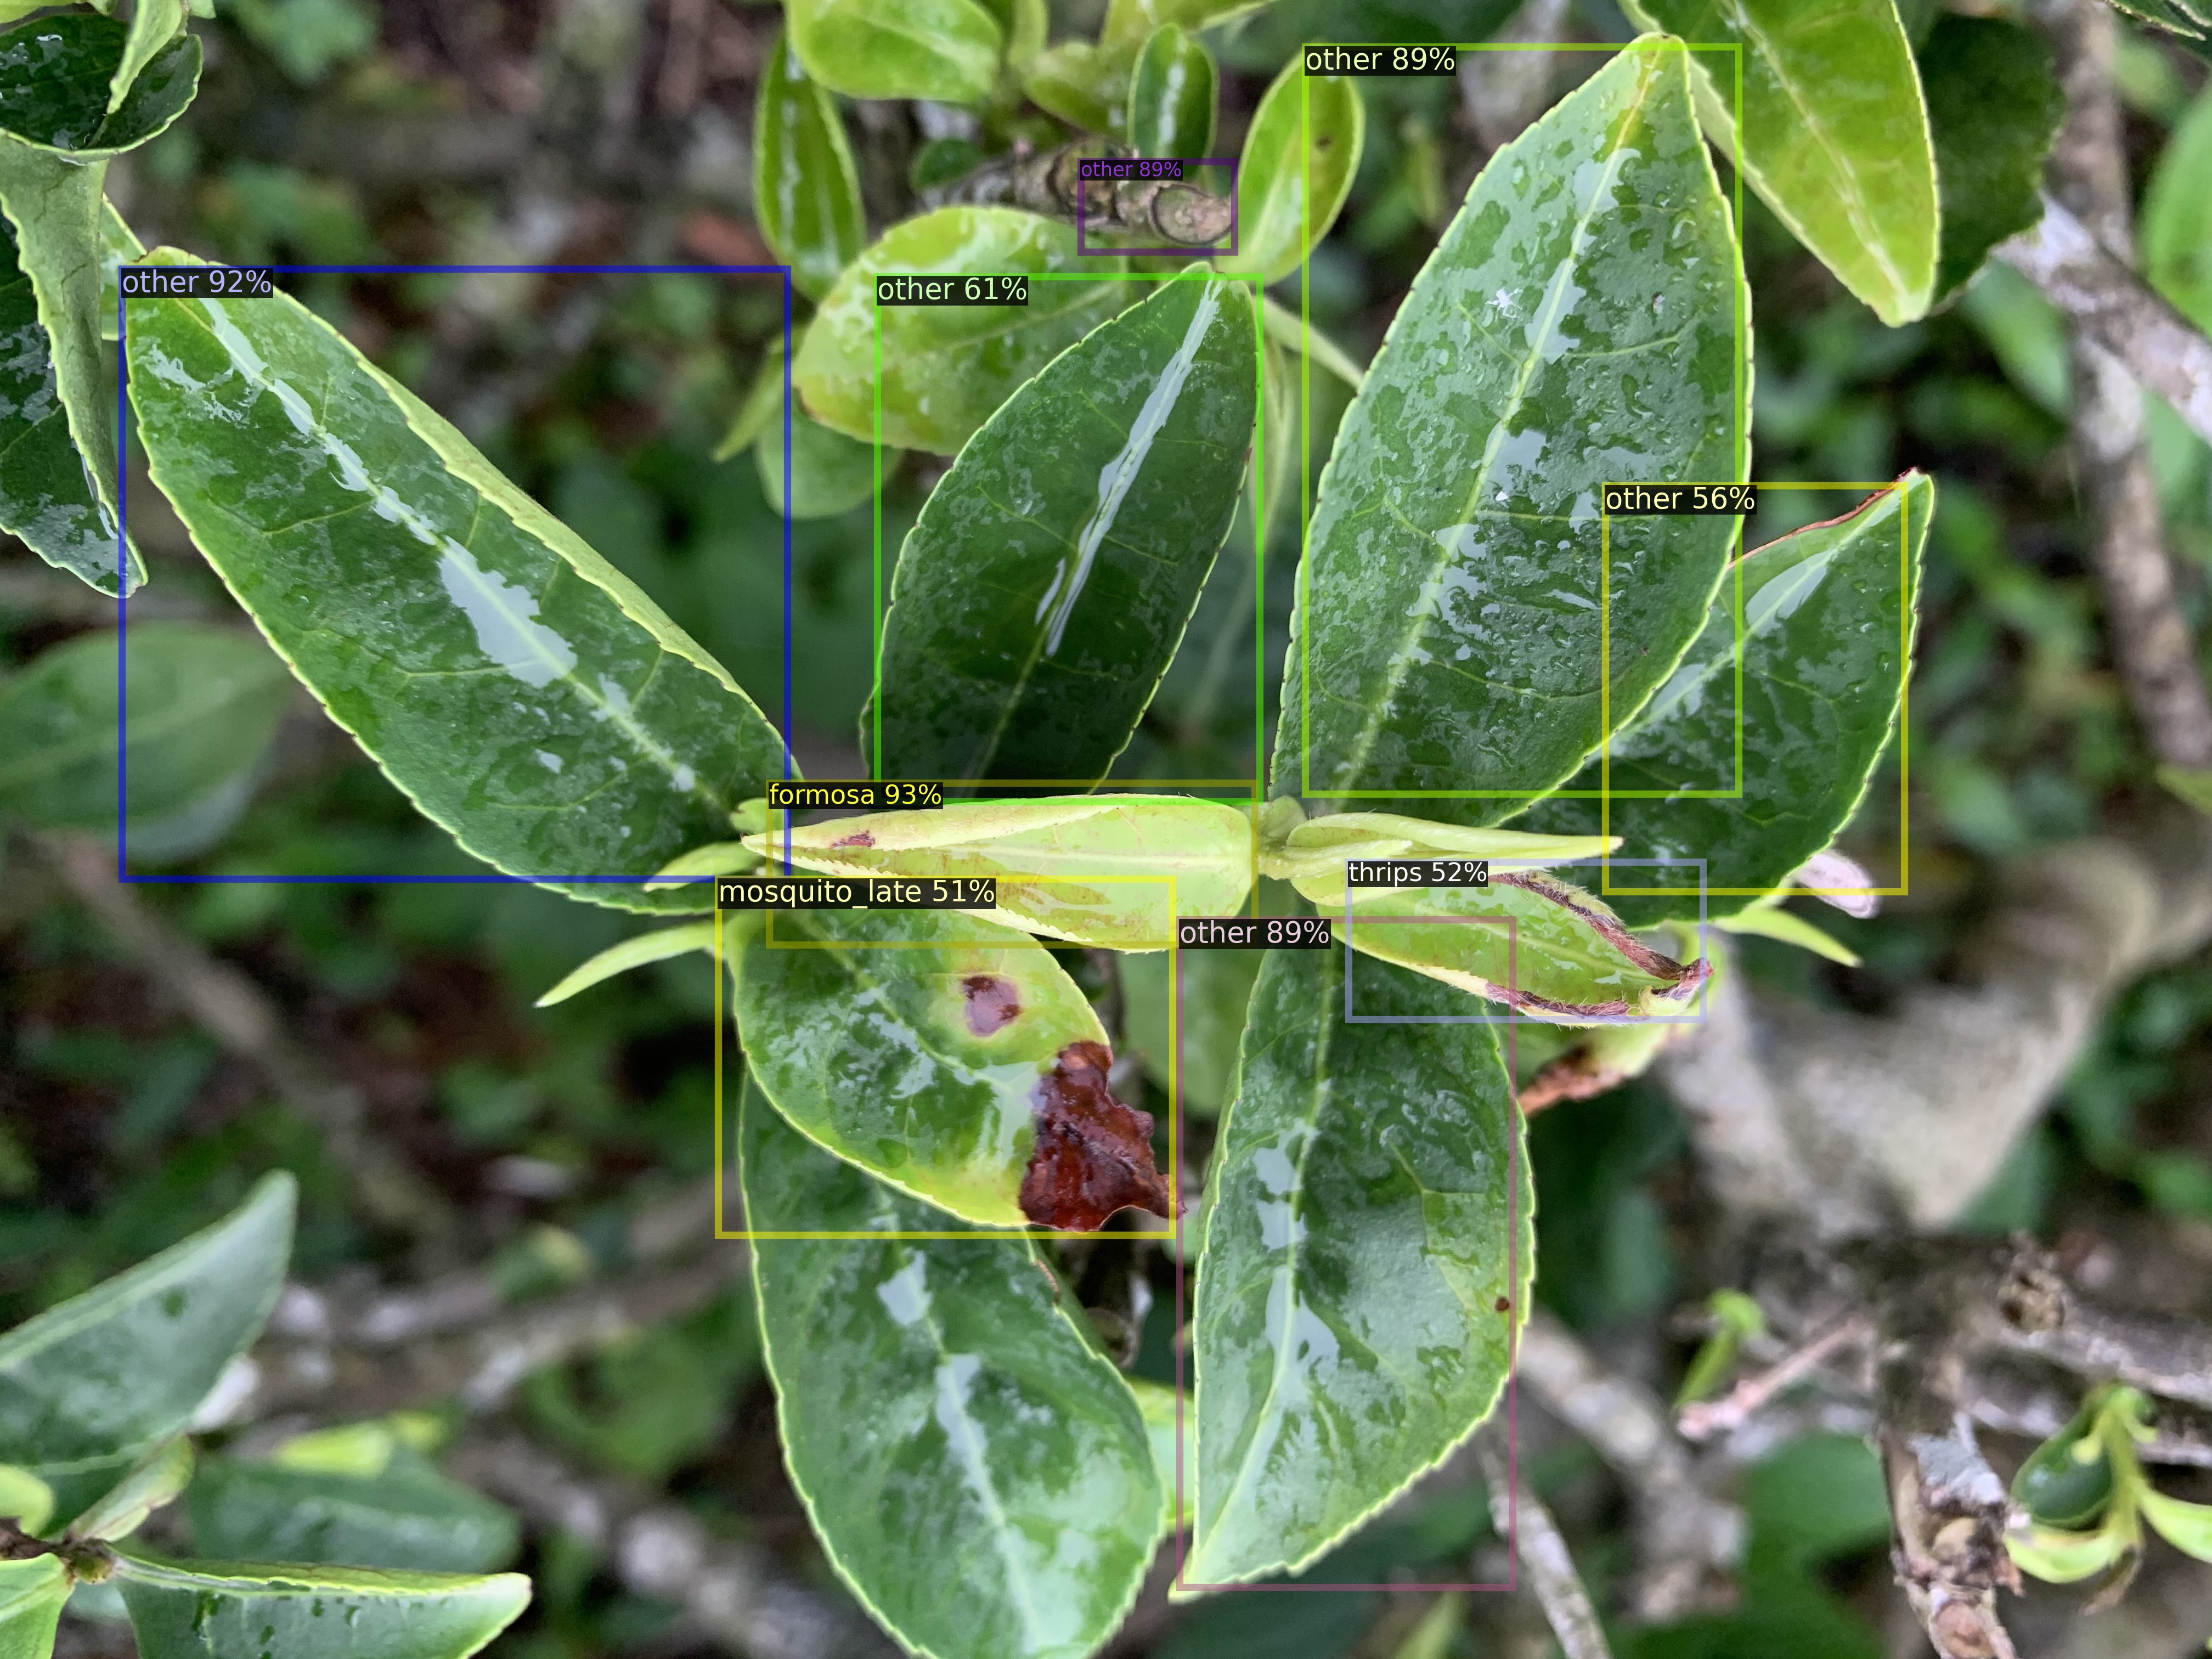formosa: (770, 782, 1254, 945)
mosquito_late: (718, 878, 1172, 1234)
other: (122, 268, 787, 878), (1305, 45, 1738, 795), (1179, 920, 1512, 1588), (878, 275, 1259, 802), (1606, 486, 1904, 892), (1082, 160, 1235, 251)
thrips: (1348, 861, 1703, 1019)
